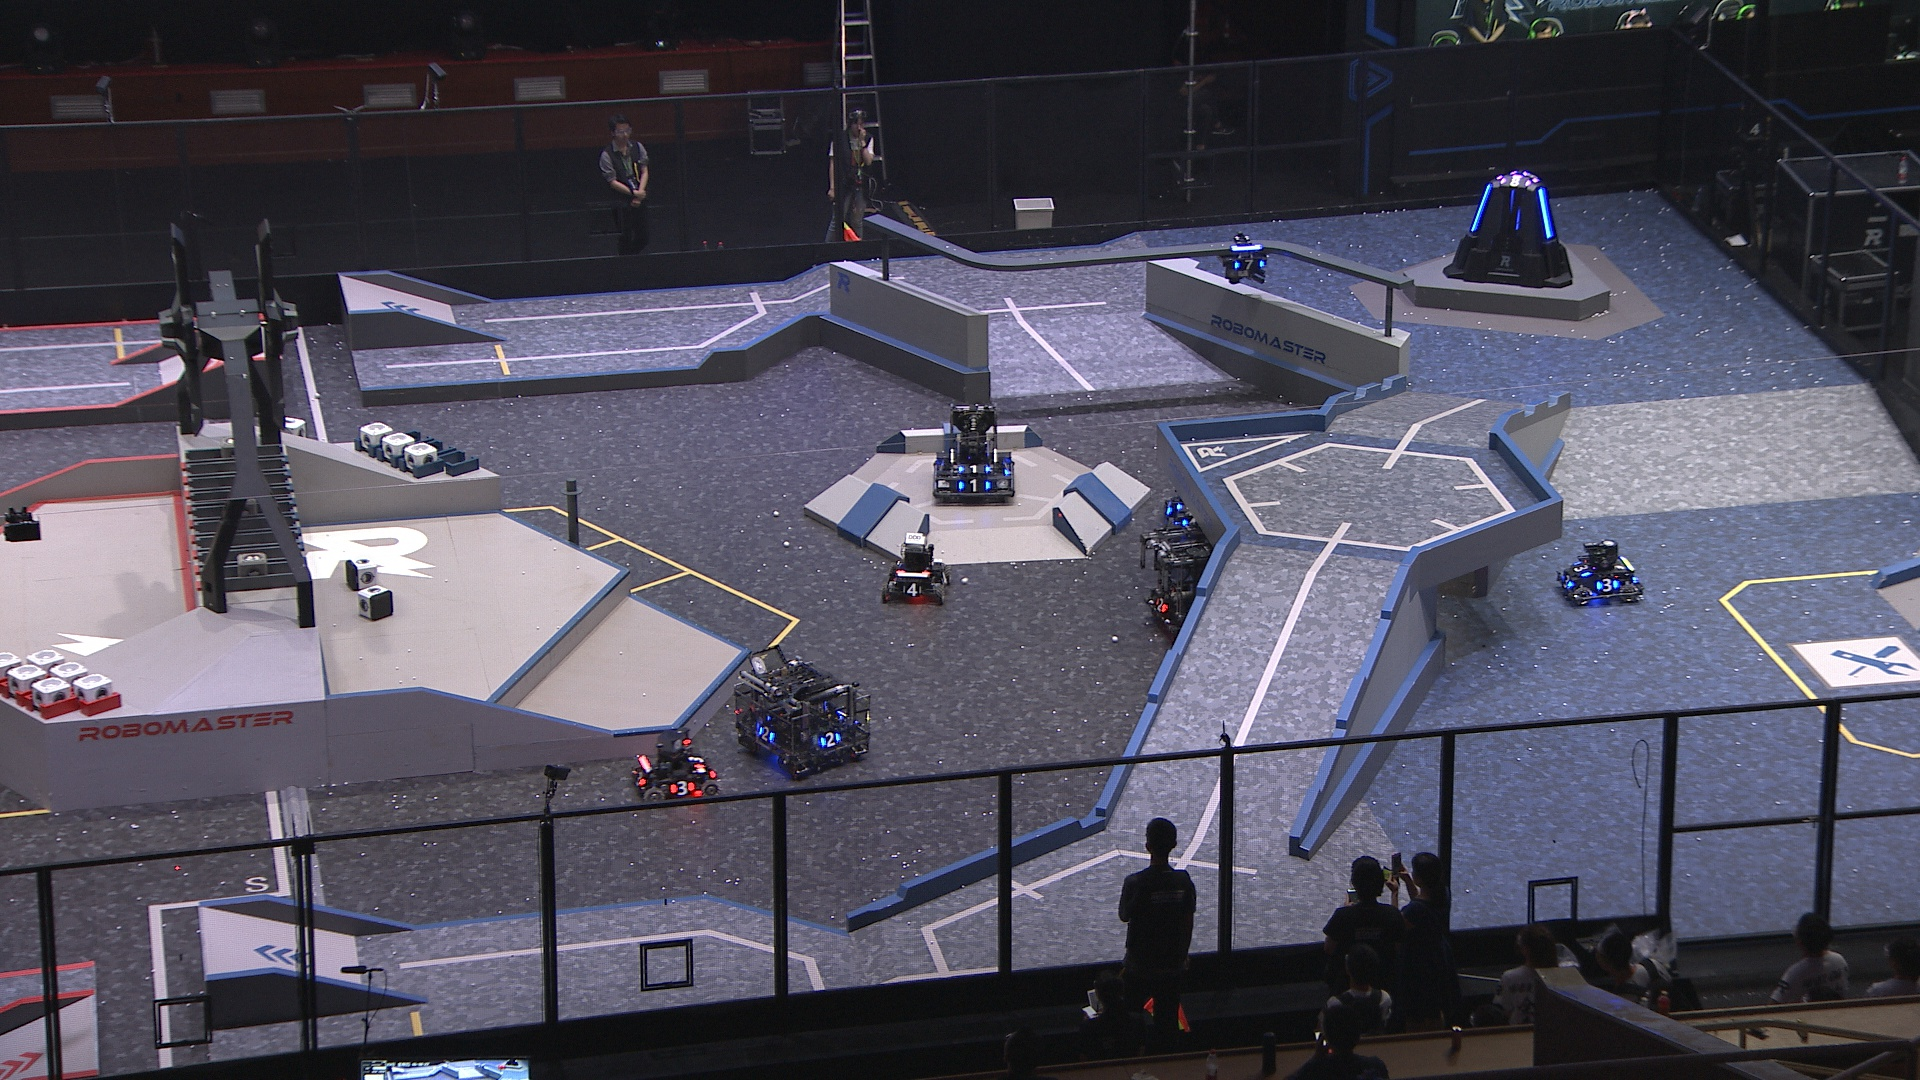armor: (1470, 183, 1491, 233), (1536, 187, 1556, 239), (956, 480, 993, 495), (666, 781, 698, 796), (1232, 258, 1267, 272), (1594, 576, 1621, 593), (820, 731, 844, 749), (1571, 560, 1593, 579), (684, 752, 707, 769), (957, 463, 992, 473), (901, 582, 923, 597), (756, 727, 778, 742), (1154, 597, 1168, 616), (633, 770, 647, 789), (1560, 572, 1575, 589), (939, 571, 949, 589), (1001, 462, 1013, 477)
base: (1441, 167, 1576, 289)
car: (731, 645, 870, 779), (1138, 518, 1251, 636), (928, 404, 1019, 502), (626, 727, 721, 808), (1556, 538, 1643, 608), (884, 531, 956, 604), (1162, 481, 1216, 533)
ignore: (1499, 174, 1534, 190)
watcher: (1218, 232, 1273, 286)
